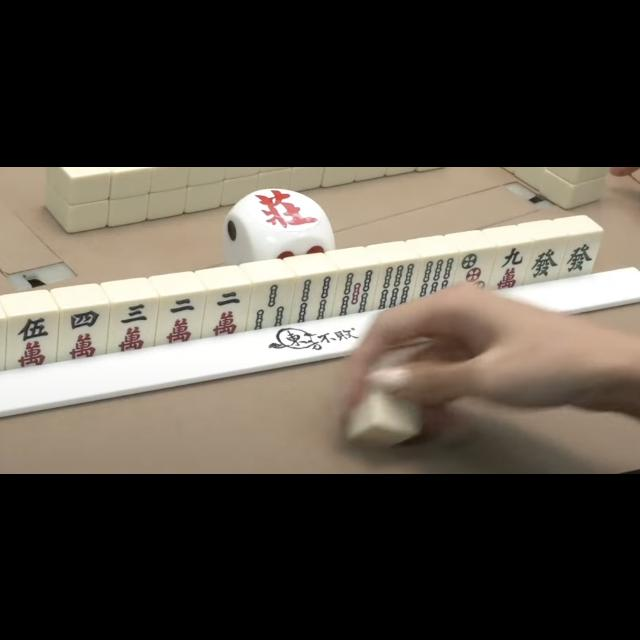b3: (250, 280, 290, 328)
b4: (294, 272, 336, 322)
b5: (338, 266, 376, 314)
b6: (378, 260, 417, 308), (418, 255, 454, 297)
c2: (158, 292, 204, 344), (205, 286, 248, 336)
c3: (110, 298, 156, 352)
c4: (59, 306, 107, 360)
c5: (7, 312, 57, 368)
c9: (491, 245, 527, 288)
d3: (453, 248, 492, 294)
dg: (528, 240, 564, 282), (563, 237, 599, 276)
